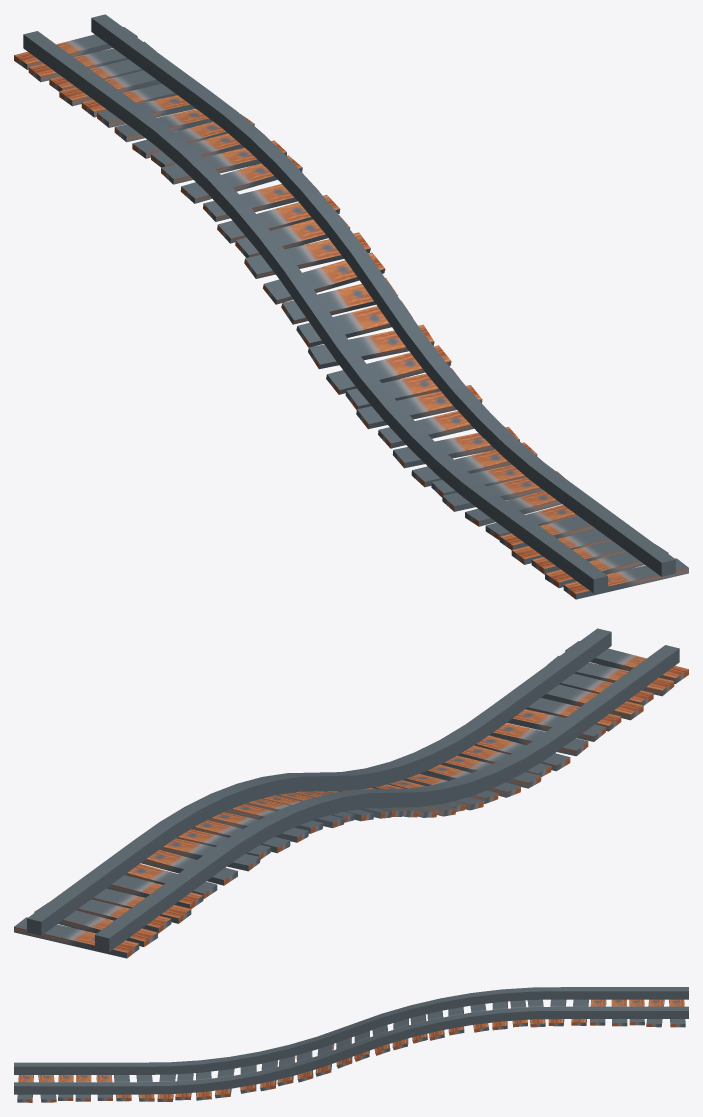
File: long_up_lil.fbx
The picture shows the model from 3 angles, top to bottom: view 1: azimuth 30°, elevation 25°; view 2: azimuth 150°, elevation 25°; view 3: azimuth 270°, elevation 25°; orthographic projection. The views are drawn at different scales.
Visible parts, largest first — view 1: long_up_lil; view 2: long_up_lil; view 3: long_up_lil.
Part boxes in pixels (<box>): long_up_lil: <box>14,14,688,599</box>; long_up_lil: <box>14,628,688,958</box>; long_up_lil: <box>14,987,688,1102</box>.
Size of the model in its own units: 12.59 by 15.39 by 108.
